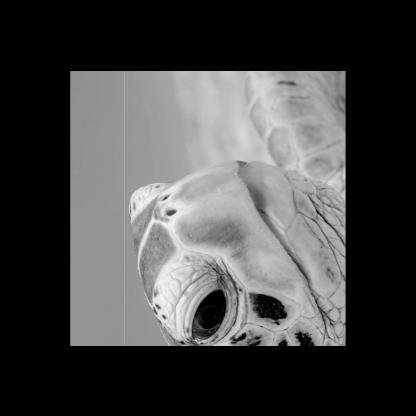turtle: (124, 70, 344, 344)
